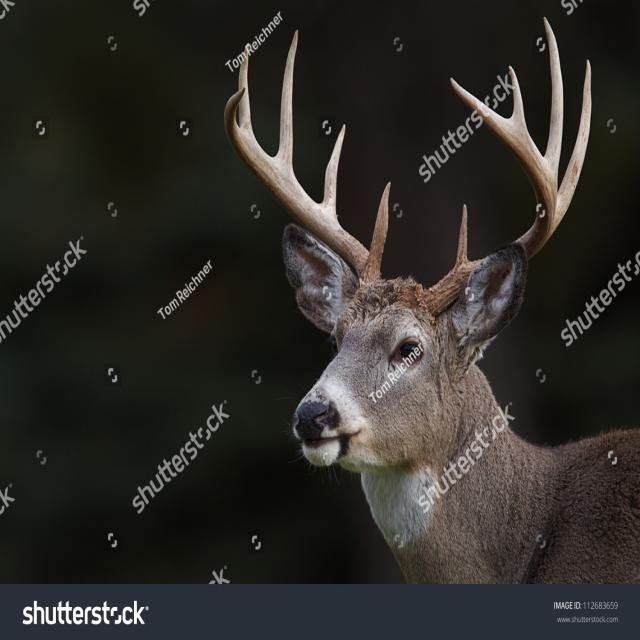E1: (508, 65, 529, 135)
L-G1: (455, 204, 469, 264)
L-G2: (554, 59, 591, 231)
L-G3: (543, 16, 563, 187)
R-F: (223, 87, 381, 287)
R-G1: (367, 181, 391, 267)
R-G2: (322, 124, 346, 215)
R-G3: (276, 29, 298, 170)
